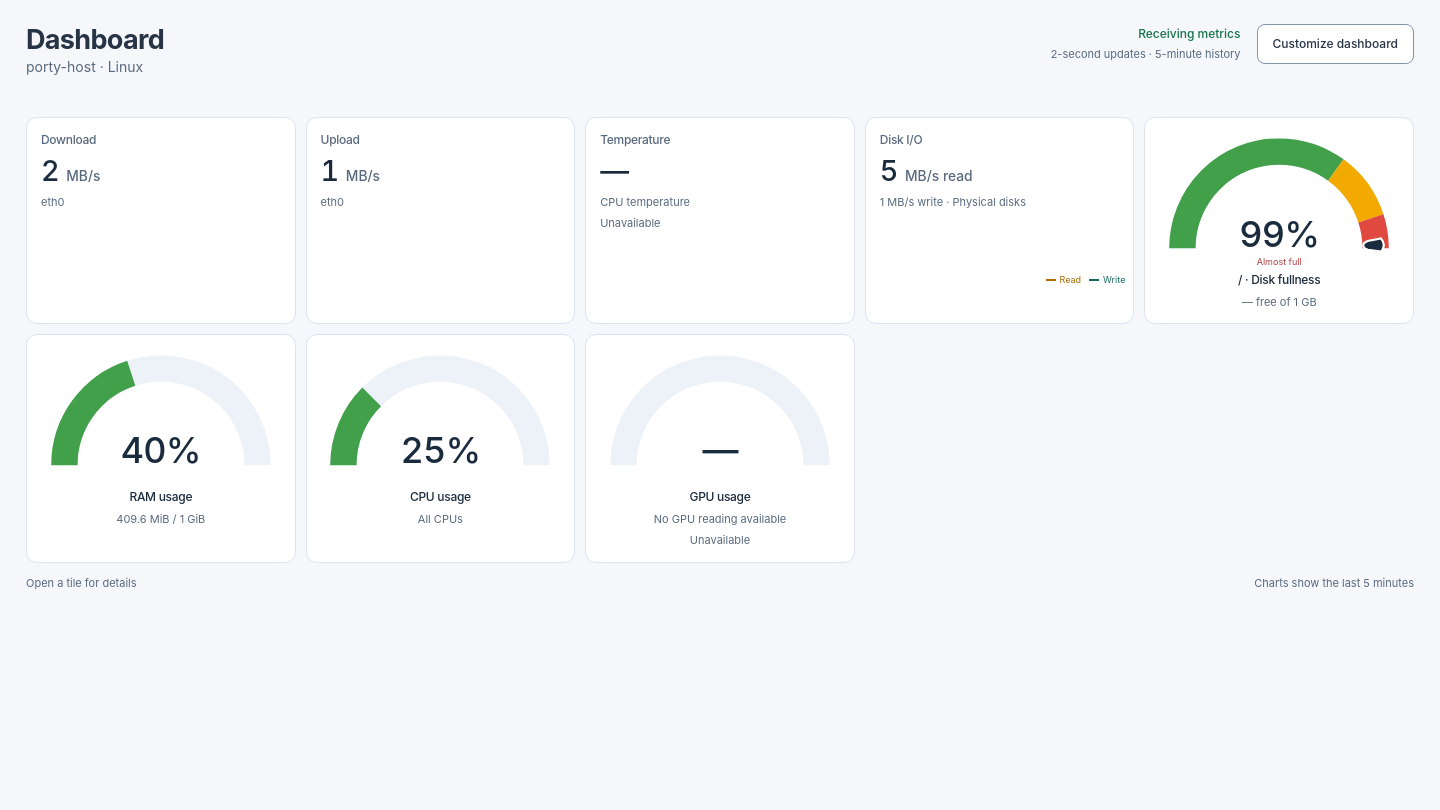
Test: disables device choices when no matching hardware is available
Click the button "Customize dashboard" at (1335, 44), box [1256,24,1414,64]
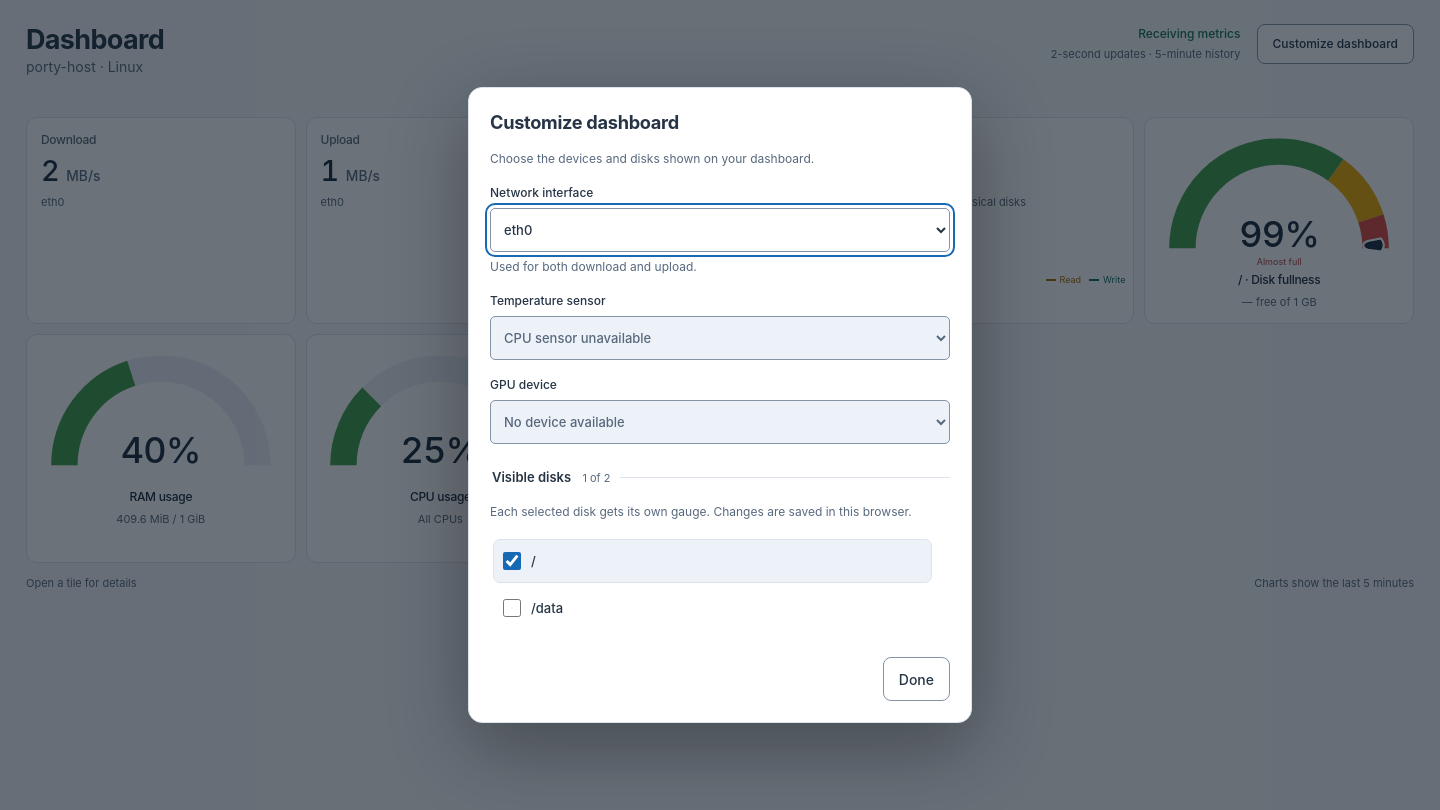
Expected: the dropdown labelled "Temperature sensor" is disabled, [490,316,950,360]
Expected: the dropdown labelled "GPU device" is disabled, [490,400,950,444]
Expected: the dropdown labelled "Network interface" is enabled, [490,208,950,252]
